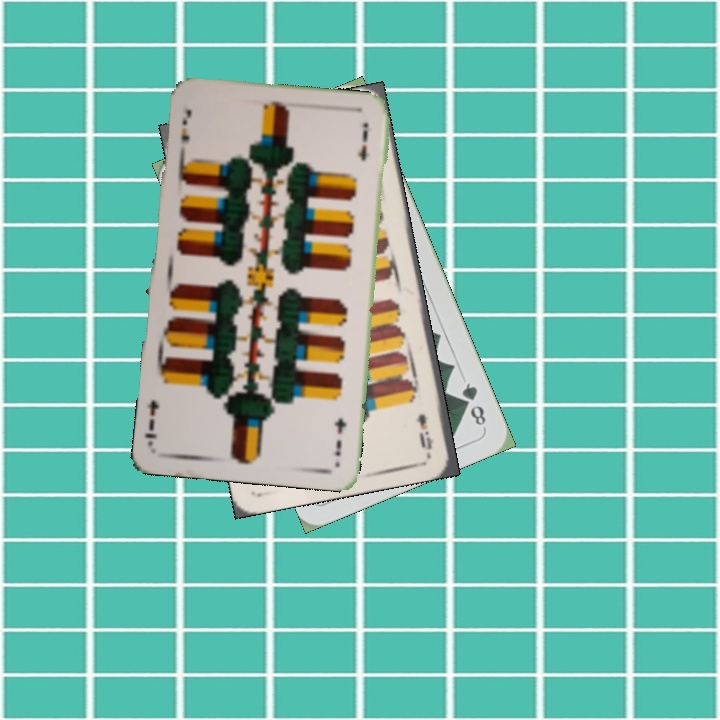E7: (175, 105, 194, 159), (329, 413, 349, 459)
E9: (413, 410, 436, 452)
G8: (457, 378, 489, 431)
